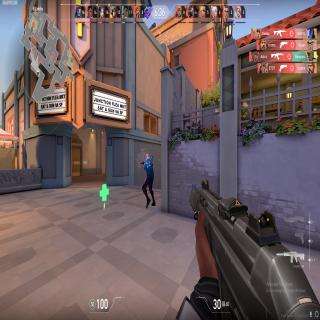ENEMY-BODY: (143, 152, 154, 208)
ENEMY-HEAD: (146, 154, 149, 160)
